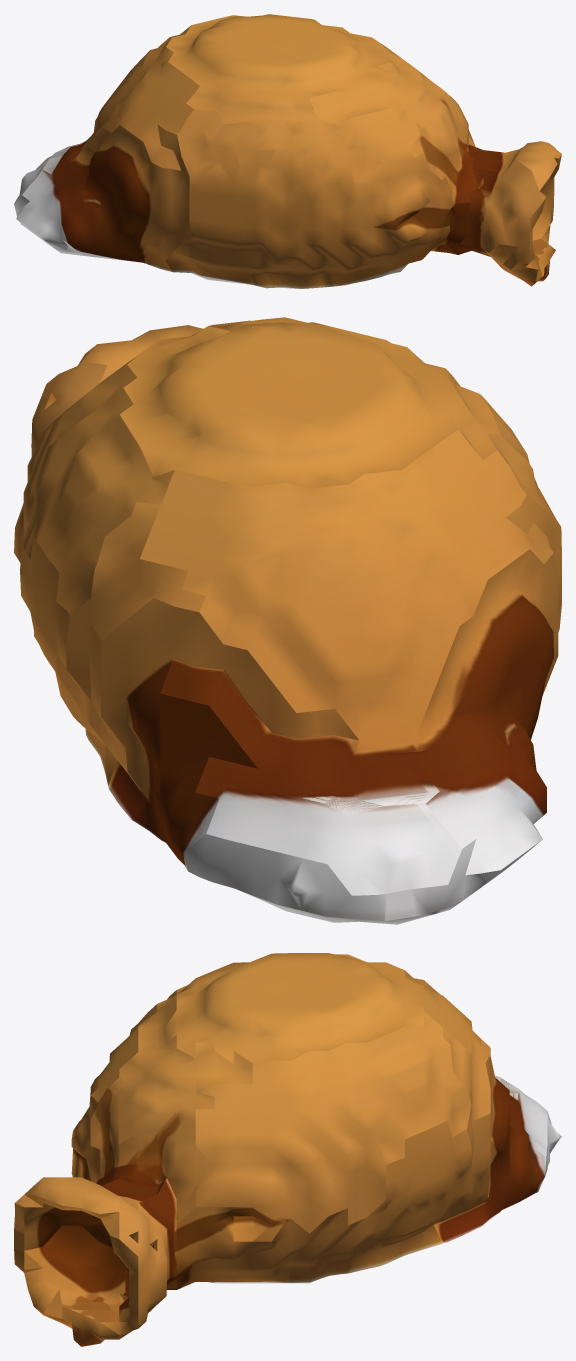
Rendered from sack_1.glb.
The picture shows the model from 3 angles, top to bottom: view 1: azimuth 30°, elevation 25°; view 2: azimuth 150°, elevation 25°; view 3: azimuth 270°, elevation 25°; orthographic projection. The views are drawn at different scales.
Parts seen in each view (by area): view 1: tmplkoamguc.ply; view 2: tmplkoamguc.ply; view 3: tmplkoamguc.ply.
Boxes of the visible parts, <box> form: tmplkoamguc.ply: <box>14,14,561,288</box>; tmplkoamguc.ply: <box>14,317,561,924</box>; tmplkoamguc.ply: <box>14,953,561,1346</box>.
Bounding box in the file's own units: 1.78 × 0.912 × 1.76.
Materials: 1 (1 with a texture image).
